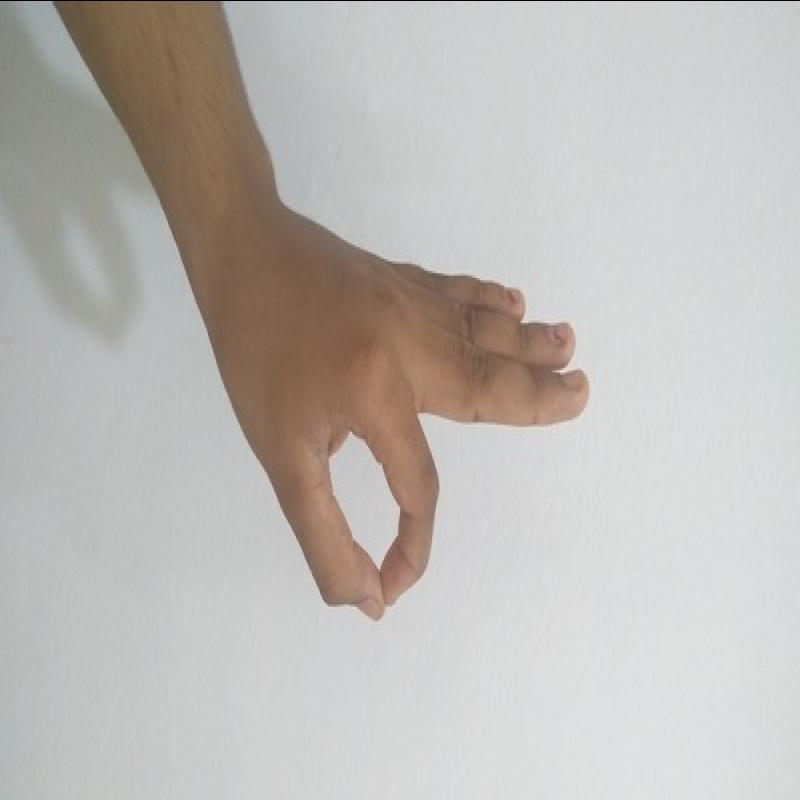Mudraakhyam: (180, 194, 608, 627)
